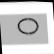no answer: (14, 15, 42, 37)
